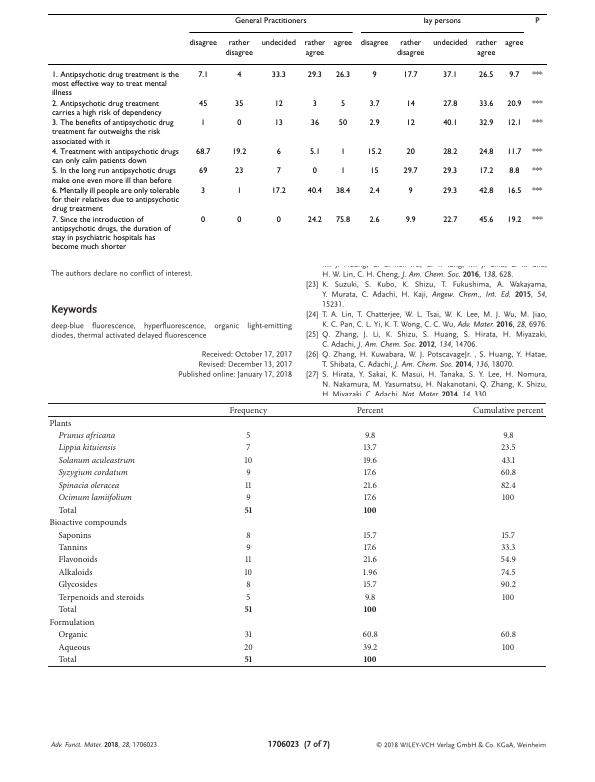borderless: (46, 401, 546, 666), (46, 12, 548, 260)
cell: (50, 215, 171, 252), (50, 186, 180, 214), (50, 70, 179, 98), (50, 118, 174, 147), (50, 166, 176, 186), (50, 147, 179, 166), (50, 99, 162, 118), (57, 592, 145, 603), (48, 517, 128, 528), (57, 455, 136, 466), (57, 492, 133, 503), (472, 405, 545, 416), (233, 16, 307, 26), (57, 468, 129, 478), (57, 480, 120, 491), (57, 430, 116, 441), (57, 443, 117, 453), (395, 39, 425, 58), (224, 39, 253, 58), (48, 617, 95, 628), (303, 39, 326, 58), (474, 39, 497, 58), (229, 405, 268, 416), (57, 555, 99, 565), (57, 580, 98, 590), (57, 567, 94, 578), (422, 16, 461, 26), (57, 642, 91, 653), (57, 629, 89, 640), (57, 530, 92, 540), (57, 542, 88, 553), (260, 39, 296, 48), (432, 39, 468, 48), (356, 405, 385, 416), (359, 39, 389, 48), (188, 39, 217, 48), (48, 418, 72, 428), (57, 505, 78, 516), (57, 654, 78, 665), (57, 605, 78, 615), (332, 39, 353, 48), (500, 480, 517, 491), (500, 567, 517, 578), (362, 629, 379, 640), (500, 629, 517, 640), (504, 39, 524, 48), (362, 455, 378, 466), (362, 480, 378, 491), (500, 542, 516, 553), (362, 567, 378, 578), (362, 642, 378, 653), (500, 443, 517, 453), (500, 468, 517, 478), (500, 555, 517, 565), (500, 580, 517, 590), (334, 186, 351, 196), (334, 215, 351, 225), (501, 455, 516, 466), (362, 555, 378, 565), (270, 70, 286, 80), (306, 70, 322, 80), (334, 70, 350, 80), (402, 70, 418, 80), (442, 70, 458, 80), (478, 70, 494, 80), (442, 99, 458, 109), (478, 99, 494, 109), (506, 99, 522, 109), (442, 118, 458, 128), (478, 118, 494, 128), (506, 118, 522, 128), (195, 147, 211, 157), (231, 147, 247, 157), (366, 147, 382, 157), (442, 147, 458, 157), (478, 147, 494, 157), (506, 147, 522, 157), (402, 166, 418, 176), (442, 166, 458, 176), (478, 166, 494, 176), (270, 186, 286, 196), (306, 186, 322, 196), (442, 186, 458, 196), (478, 186, 494, 196), (506, 186, 522, 196), (306, 215, 322, 225), (442, 215, 458, 225), (478, 215, 494, 225), (506, 215, 522, 225), (363, 492, 377, 503), (501, 492, 515, 503), (363, 542, 377, 553), (501, 592, 515, 603), (501, 642, 515, 653), (363, 443, 378, 453), (363, 530, 378, 540), (501, 530, 516, 540), (363, 580, 378, 590), (502, 430, 515, 441), (363, 468, 377, 478), (363, 654, 378, 663), (364, 430, 376, 441), (364, 592, 376, 603), (243, 642, 254, 653), (363, 505, 378, 513), (363, 605, 378, 613), (197, 70, 209, 80), (508, 70, 520, 80), (531, 70, 543, 80), (368, 99, 380, 109), (531, 99, 543, 109), (368, 118, 380, 128), (531, 118, 543, 128), (308, 147, 320, 157), (531, 147, 543, 157), (508, 166, 520, 176), (531, 166, 543, 176), (368, 186, 380, 196), (531, 186, 543, 196), (368, 215, 380, 225), (404, 215, 416, 225), (531, 215, 543, 225), (309, 118, 320, 128), (337, 118, 348, 128), (198, 99, 208, 109), (234, 99, 244, 109), (273, 99, 283, 109), (405, 99, 415, 109), (273, 118, 283, 128), (405, 118, 415, 128), (405, 147, 415, 157), (198, 166, 208, 176), (234, 166, 244, 176), (369, 166, 379, 176), (244, 455, 253, 466), (244, 567, 253, 578), (244, 629, 253, 640), (244, 480, 252, 491), (244, 654, 253, 663), (244, 555, 252, 565), (245, 492, 252, 503), (245, 542, 252, 553), (244, 505, 253, 513), (244, 605, 253, 613), (245, 468, 252, 478), (245, 530, 252, 540), (245, 580, 252, 590), (339, 99, 346, 109), (339, 147, 346, 157), (339, 166, 346, 176), (245, 430, 251, 441), (245, 592, 251, 603), (245, 443, 251, 453), (534, 16, 540, 26), (236, 70, 242, 80), (371, 70, 377, 80), (311, 99, 317, 109), (200, 118, 206, 128), (236, 118, 242, 128), (275, 147, 281, 157), (275, 166, 281, 176), (311, 166, 317, 176), (200, 186, 206, 196), (236, 186, 242, 196), (407, 186, 413, 196), (200, 215, 206, 225), (236, 215, 242, 225), (275, 215, 281, 225)
